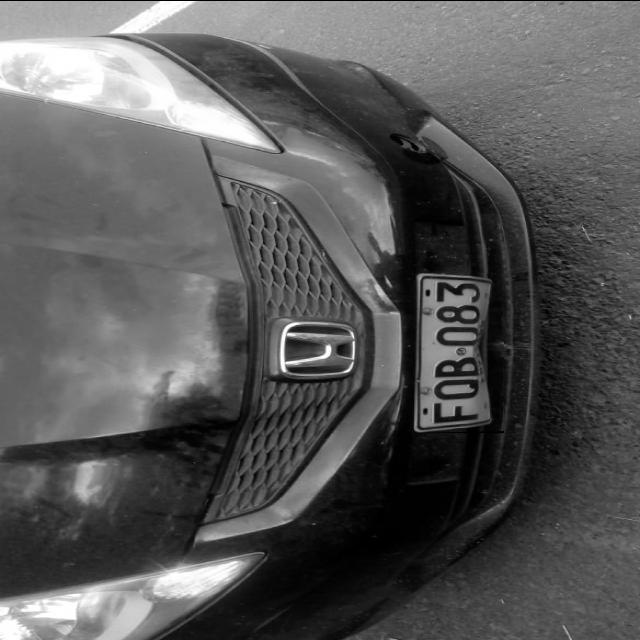plate: (414, 272, 504, 432)
